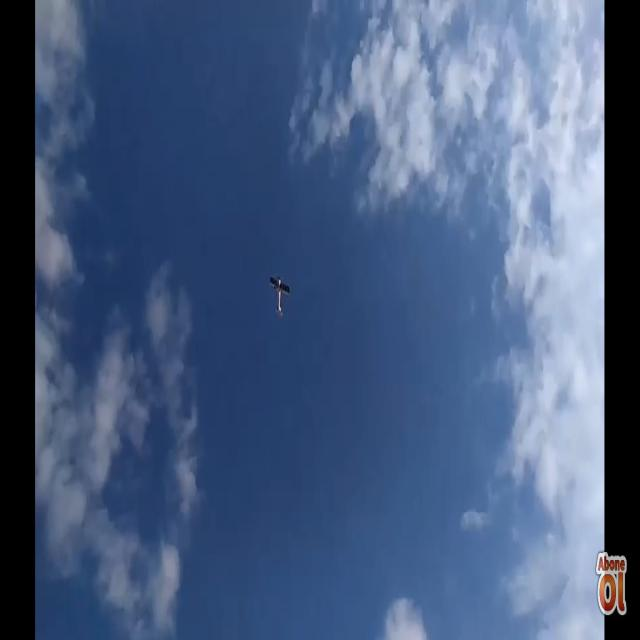iha: (269, 273, 291, 317)
